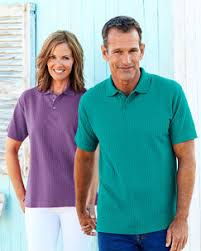C_polo shirt: (75, 75, 197, 237), (3, 88, 101, 209)
